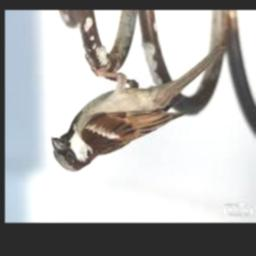Sparrow: (52, 42, 227, 171)
